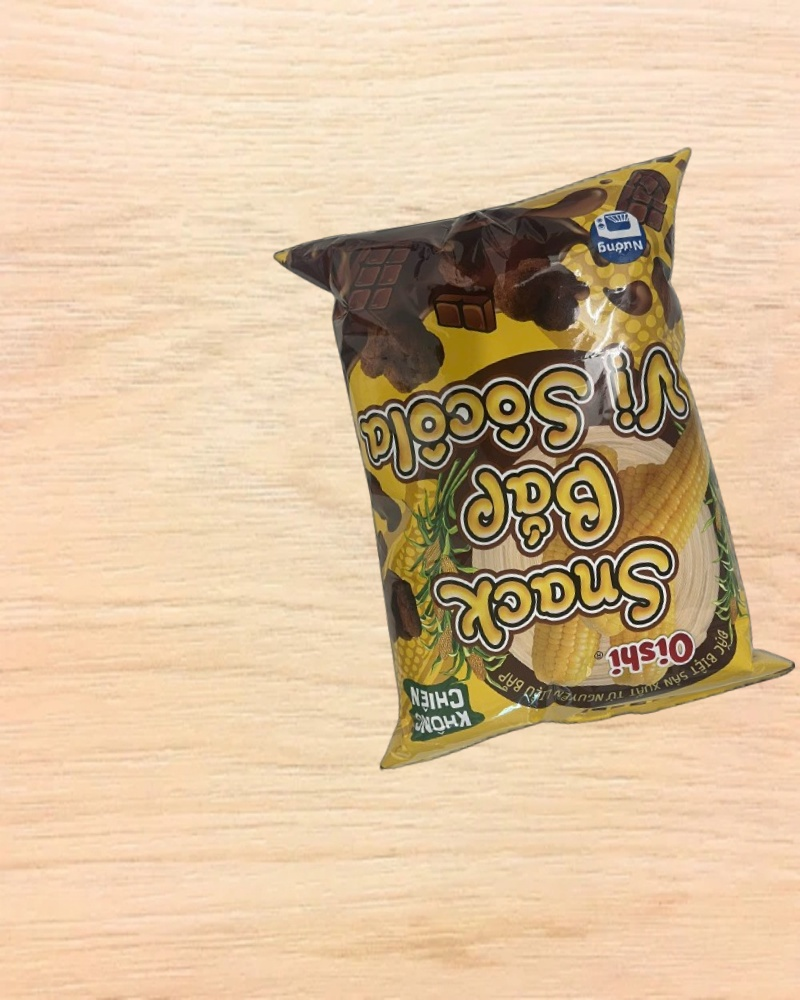Snack socola: (270, 148, 800, 772)
